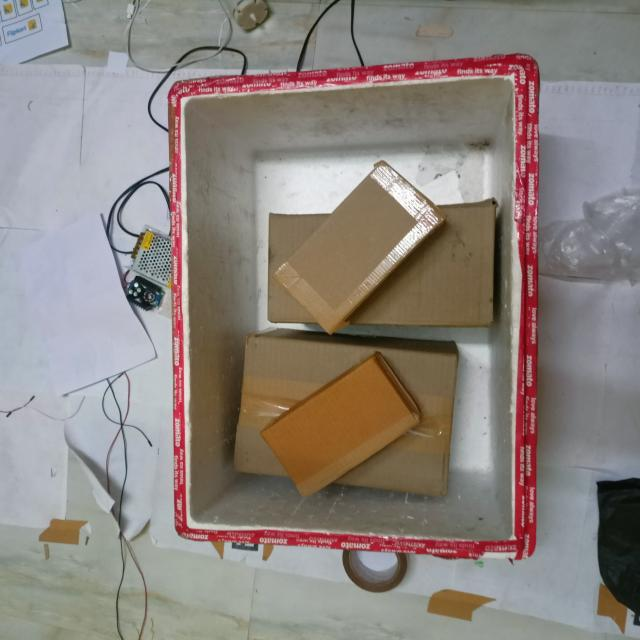box: (273, 160, 442, 335), (266, 359, 420, 502)
